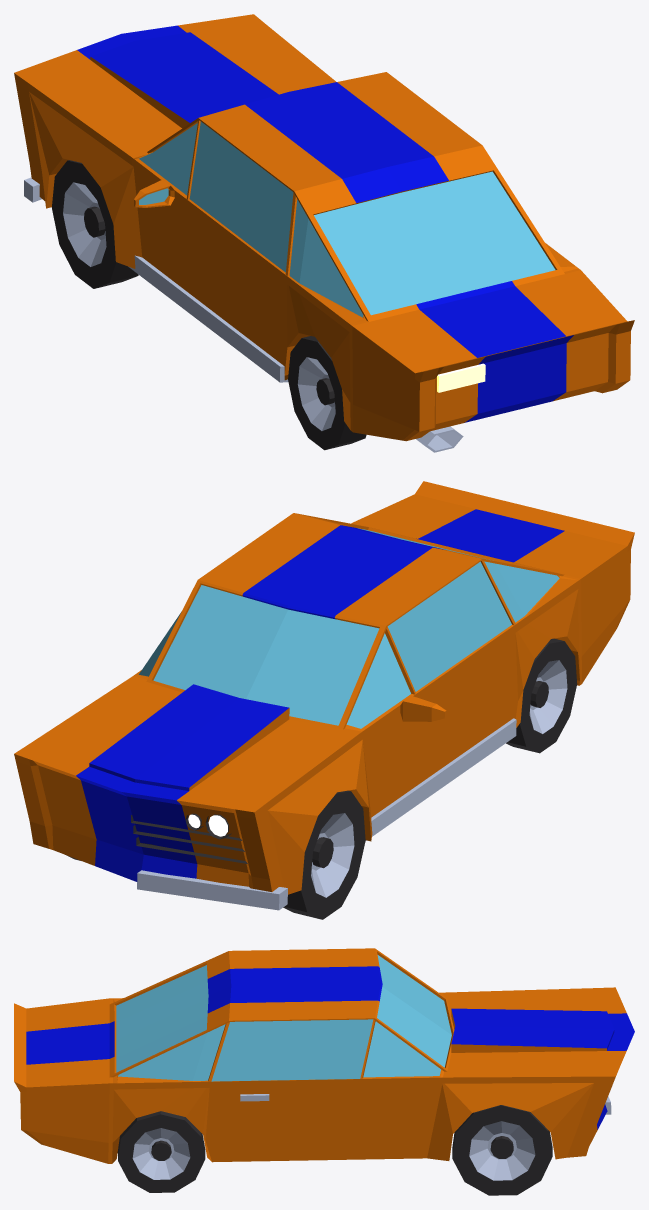
The model's file is car.glb.
The picture shows the model from 3 angles, top to bottom: view 1: azimuth 30°, elevation 25°; view 2: azimuth 150°, elevation 25°; view 3: azimuth 270°, elevation 25°; orthographic projection. The views are drawn at different scales.
Visible parts, largest first — view 1: Racecar; view 2: Racecar; view 3: Racecar.
Boxes of the visible parts, bbox=[...] form: Racecar: bbox=[14, 14, 634, 452]; Racecar: bbox=[14, 481, 634, 919]; Racecar: bbox=[14, 948, 634, 1195].
Bounding box in the file's own units: 1.52 × 1.12 × 3.79.
